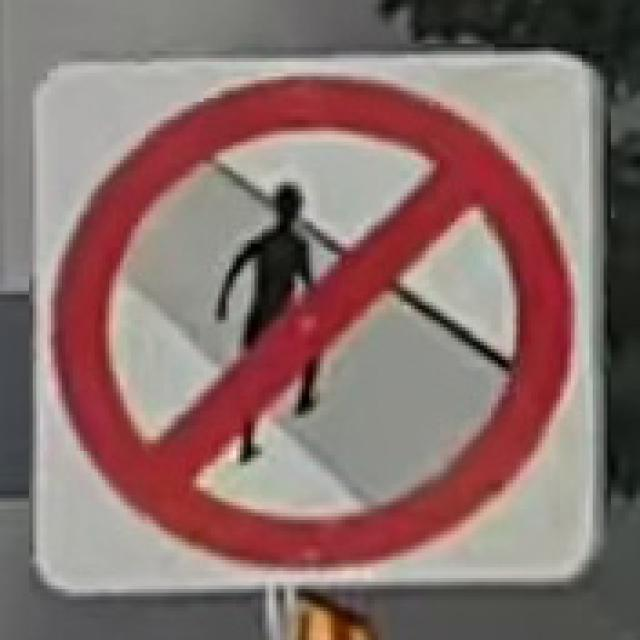nojaywalking_sign: (25, 44, 608, 596)
